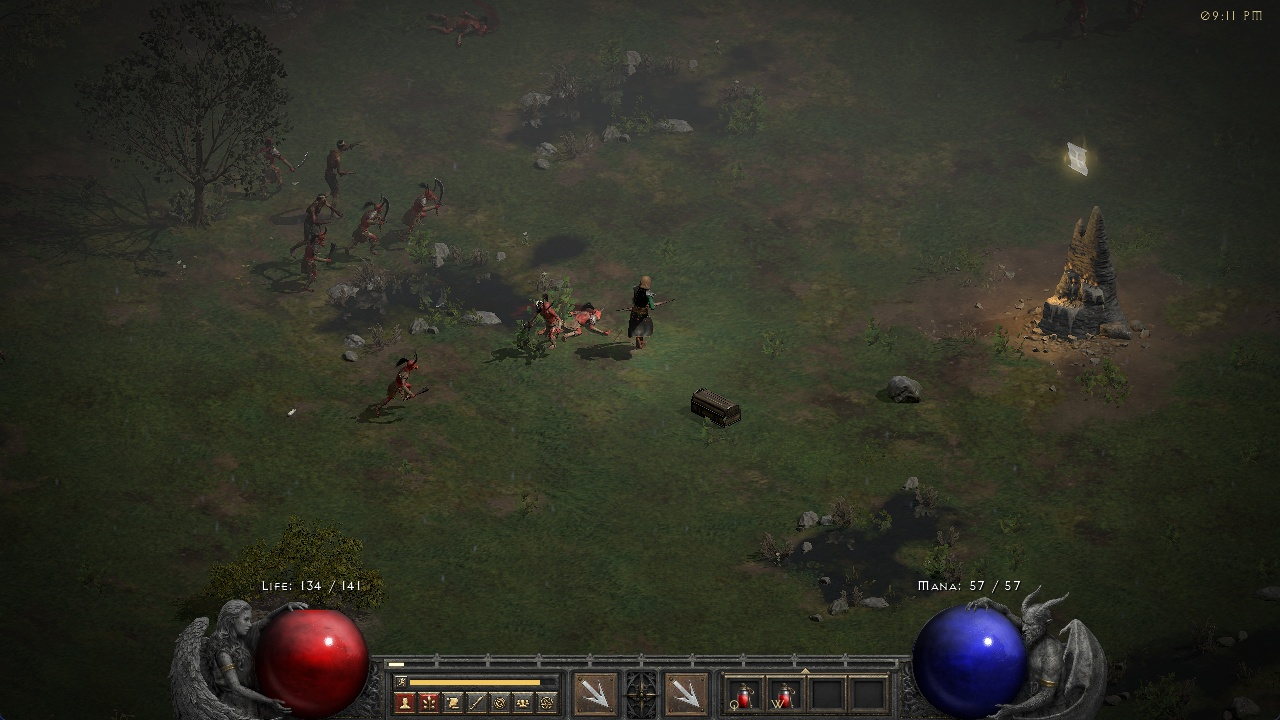fallen: (231, 136, 307, 204), (379, 348, 427, 418), (286, 229, 341, 288), (403, 174, 452, 238), (351, 202, 402, 262), (520, 296, 564, 350)
